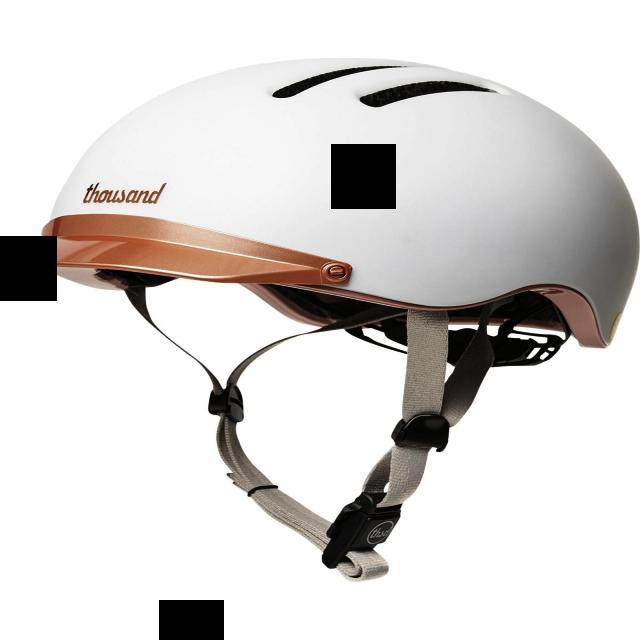Helmet: (25, 57, 640, 352)
